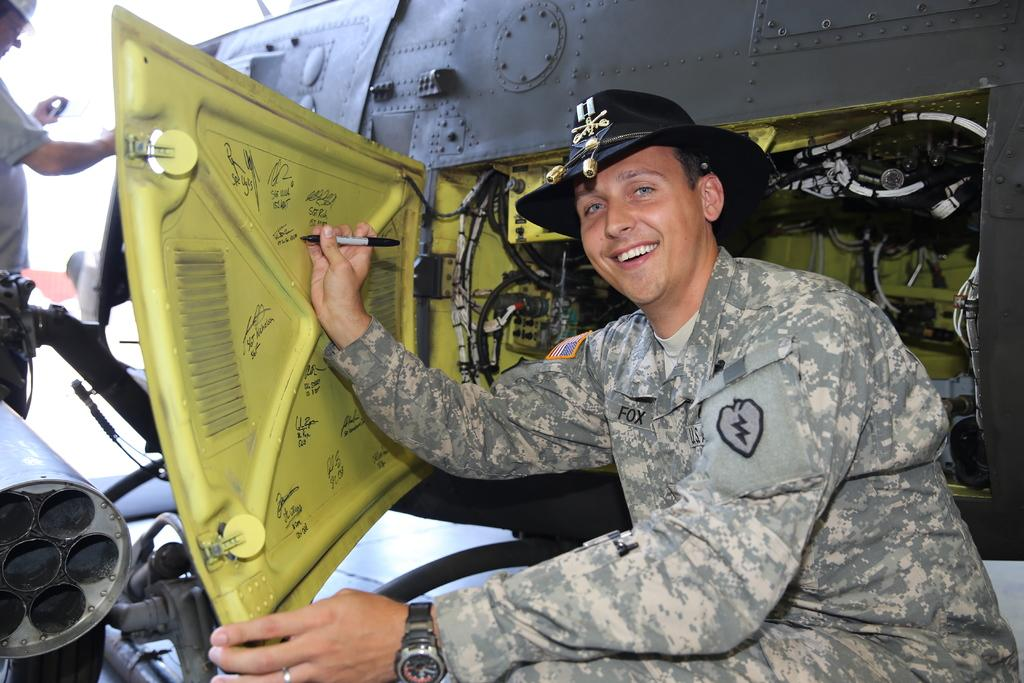Hat: (514, 88, 774, 241)
